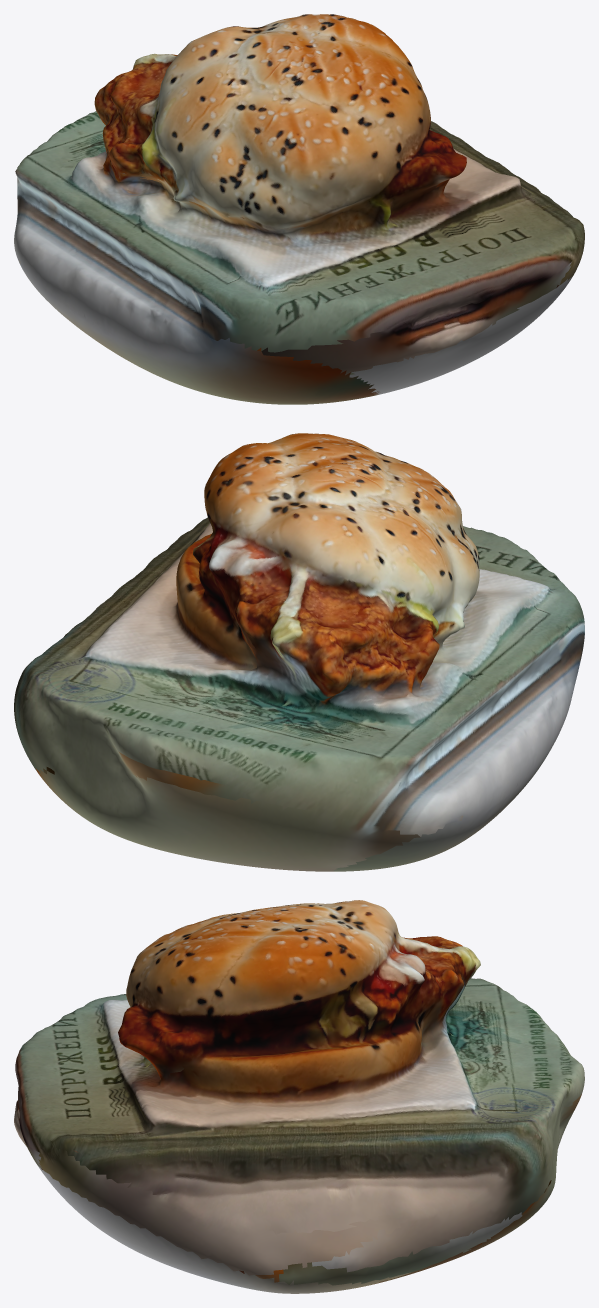
File: burger.glb
The picture shows the model from 3 angles, top to bottom: view 1: azimuth 30°, elevation 25°; view 2: azimuth 150°, elevation 25°; view 3: azimuth 270°, elevation 25°; orthographic projection. The views are drawn at different scales.
Visible parts, largest first — view 1: Object_2; view 2: Object_2; view 3: Object_2.
Part boxes in pixels (<box>): Object_2: <box>14,14,584,404</box>; Object_2: <box>14,433,584,871</box>; Object_2: <box>14,900,584,1293</box>.
Size of the model in its own units: 0.1631 by 0.1189 by 0.1968.
Materials: 1 (1 with a texture image).
